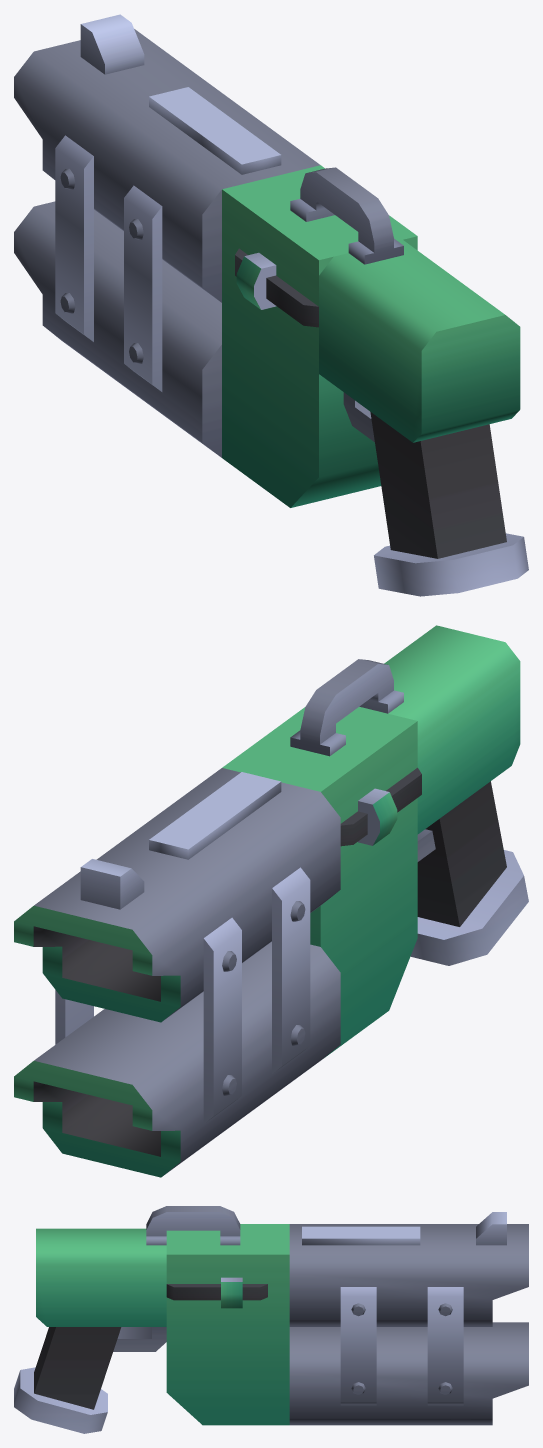
File: blaster-q.glb
3 views of the same model, one above another, from view 1: azimuth 30°, elevation 25°; view 2: azimuth 150°, elevation 25°; view 3: azimuth 270°, elevation 25° (orthographic). The views are drawn at different scales.
Parts seen in each view (by area): view 1: blaster-q; view 2: blaster-q; view 3: blaster-q.
Boxes of the visible parts, x1,y1,x2,y2 form: blaster-q: (14, 14, 528, 596); blaster-q: (14, 625, 528, 1177); blaster-q: (14, 1206, 528, 1433).
Size of the model in its own units: 0.17 by 0.3238 by 0.7104.
1 material, 1 textured.
